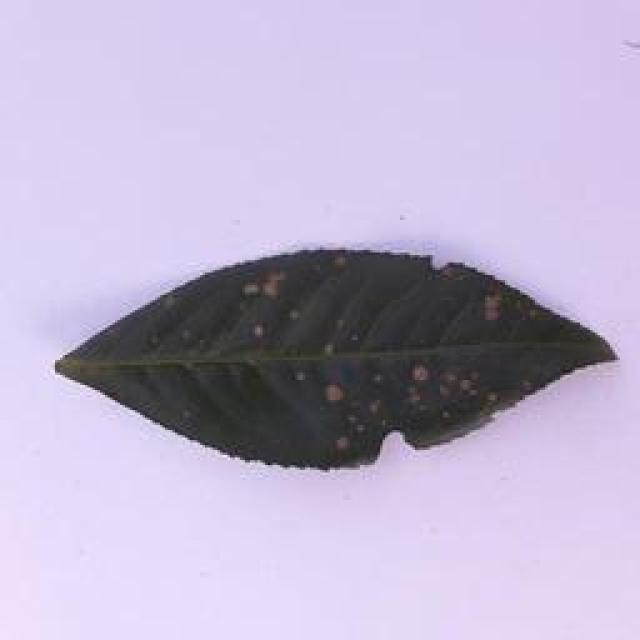Algal Leaf Spot: (49, 243, 626, 477)
